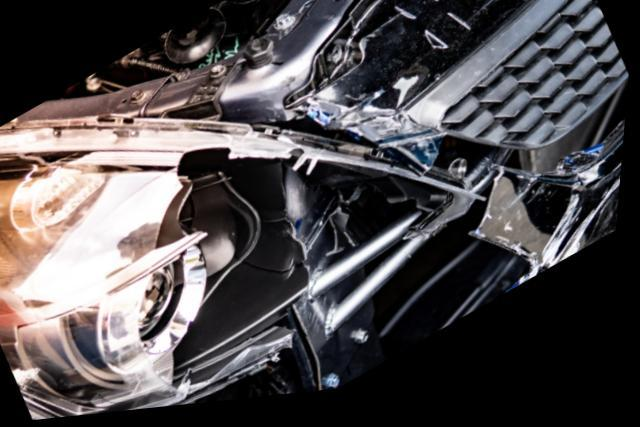crack: (293, 271, 329, 398)
lamp broken: (0, 149, 311, 421)
no part: (0, 0, 539, 147), (302, 167, 473, 341)
scratch: (515, 175, 625, 301)
